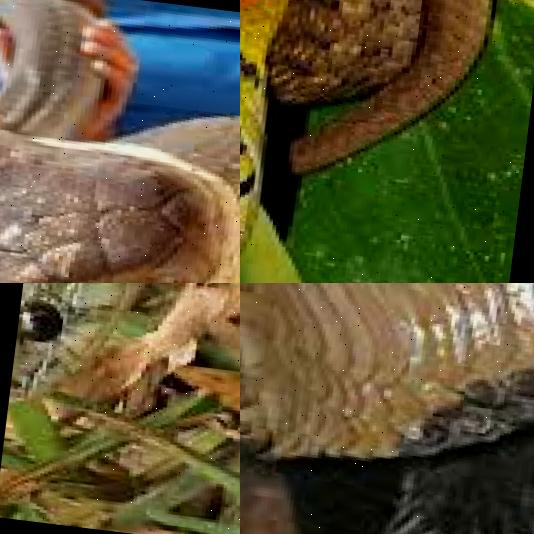snake: (240, 0, 525, 283), (240, 283, 534, 534), (0, 0, 240, 283), (1, 283, 240, 513)
